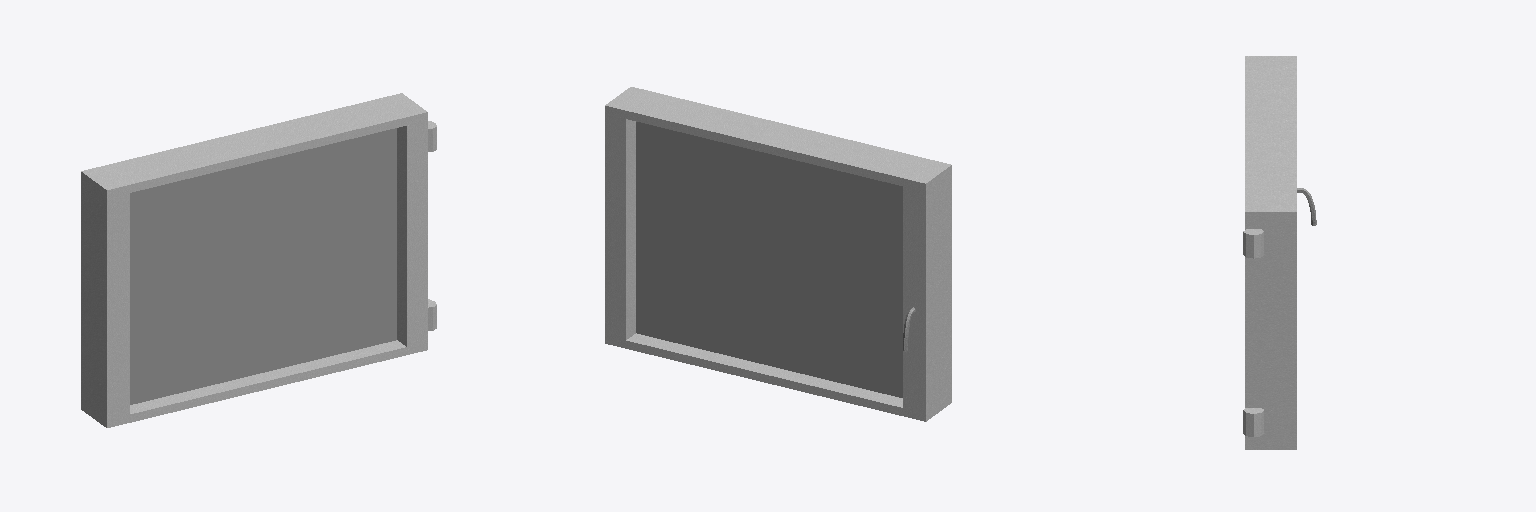
3 views of the same model, side by side, from view 1: azimuth 30°, elevation 25°; view 2: azimuth 150°, elevation 25°; view 3: azimuth 270°, elevation 25° (orthographic).
Parts seen in each view (by area): view 1: Cube.001_Cube.010, Cube_Cube.001; view 2: Cube.001_Cube.010, Cube_Cube.001; view 3: Cube_Cube.001.
Part boxes in pixels (left/top/right/bottom): Cube.001_Cube.010: left=130, top=128, right=396, bottom=404; Cube_Cube.001: left=81, top=93, right=436, bottom=427; Cube.001_Cube.010: left=636, top=122, right=902, bottom=397; Cube_Cube.001: left=605, top=87, right=951, bottom=421; Cube_Cube.001: left=1243, top=56, right=1296, bottom=449.
Bounding box in the file's own units: 0.2186 × 0.1493 × 0.0417.
3 materials, 2 textured.